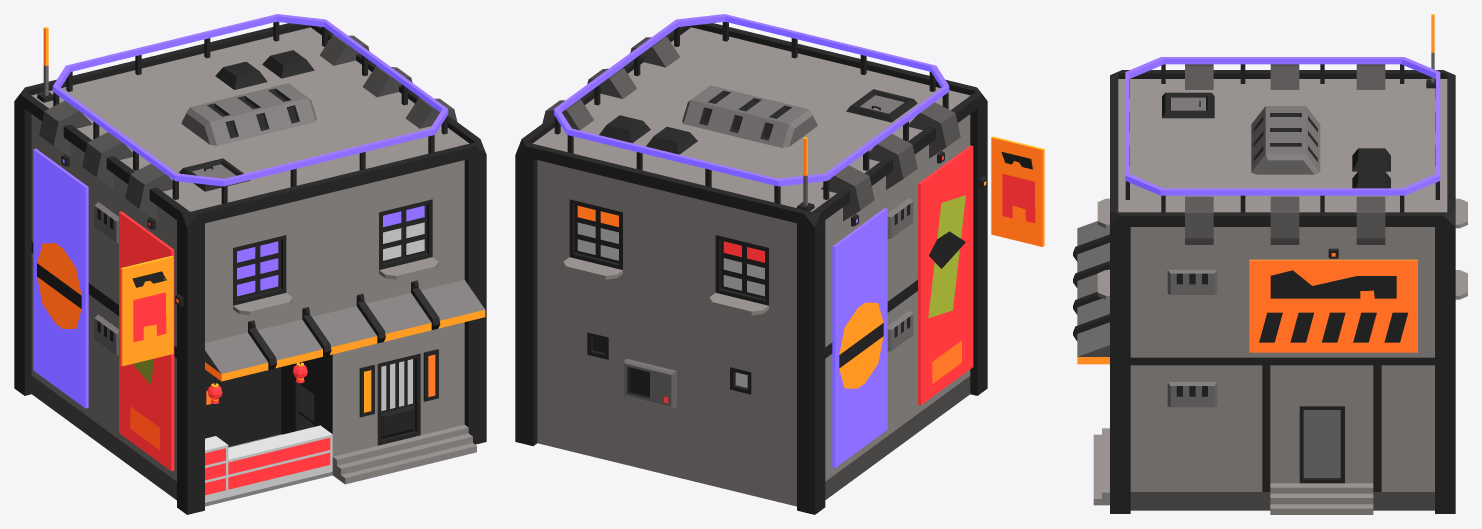
File: scifi_scifi-building-shop.fbx
3 views of the same model, side by side, from view 1: azimuth 30°, elevation 25°; view 2: azimuth 150°, elevation 25°; view 3: azimuth 270°, elevation 25° (orthographic).
Parts seen in each view (by area): view 1: scifi_scifi_building_shop; view 2: scifi_scifi_building_shop; view 3: scifi_scifi_building_shop.
Part boxes in pixels (bbox=[...]): scifi_scifi_building_shop: bbox=[14, 14, 486, 514]; scifi_scifi_building_shop: bbox=[515, 14, 1044, 514]; scifi_scifi_building_shop: bbox=[1073, 14, 1467, 514].
Bounding box in the file's own units: 200 × 188 × 185.
